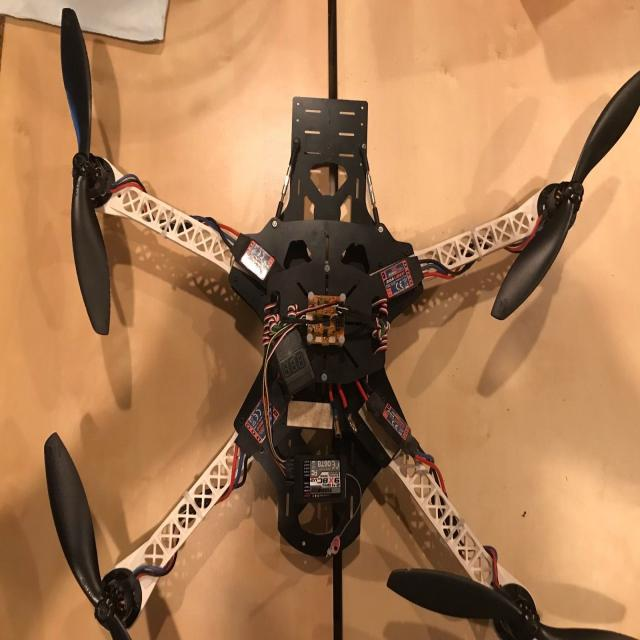drone: (21, 6, 640, 631)
